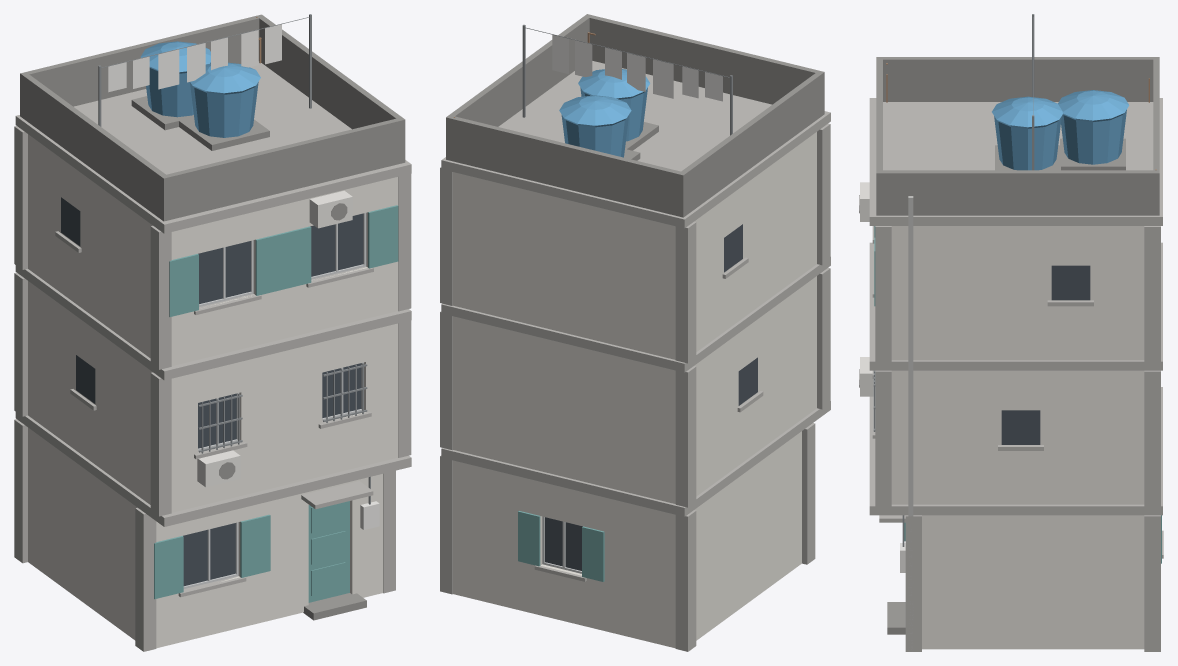
The picture shows the model from 3 angles, left to right: view 1: azimuth 30°, elevation 25°; view 2: azimuth 150°, elevation 25°; view 3: azimuth 270°, elevation 25°; orthographic projection.
Visible parts, largest first — view 1: fv_h02; view 2: fv_h02; view 3: fv_h02.
Boxes of the visible parts, box(x1,y1,x2,y2) form: fv_h02: box(14, 14, 411, 651); fv_h02: box(440, 14, 830, 651); fv_h02: box(859, 14, 1163, 651).
Bounding box in the file's own units: 5.22 × 10.57 × 5.53.
